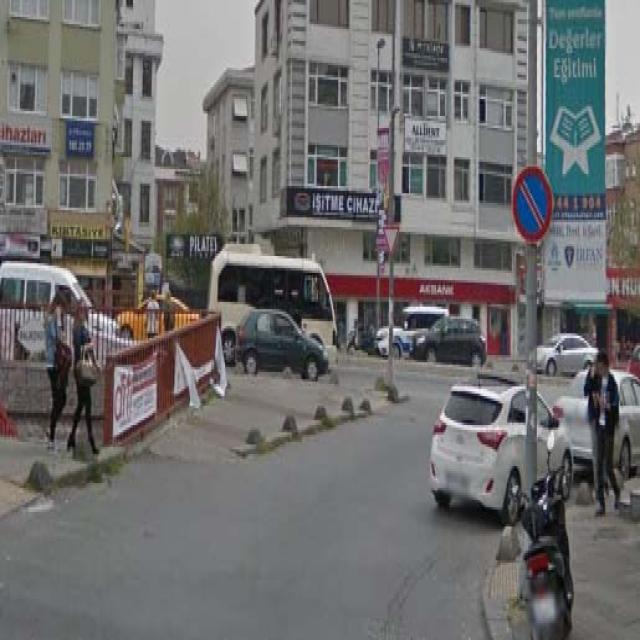parkyasak: (513, 166, 552, 242)
